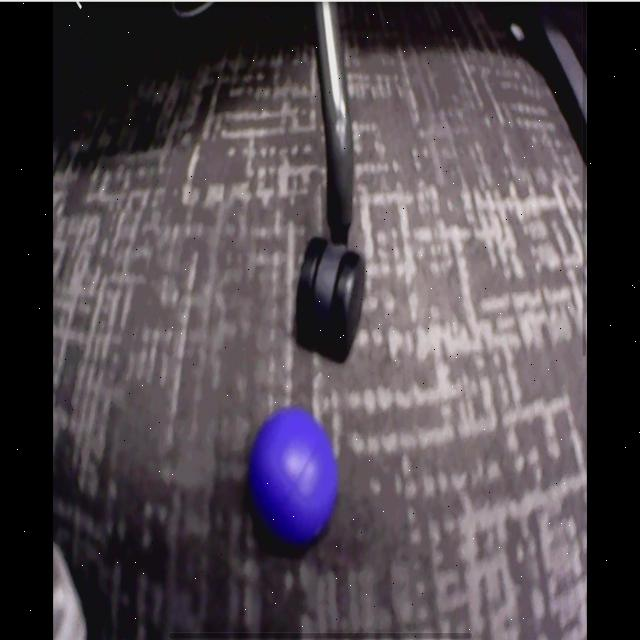ball: (251, 410, 338, 542)
